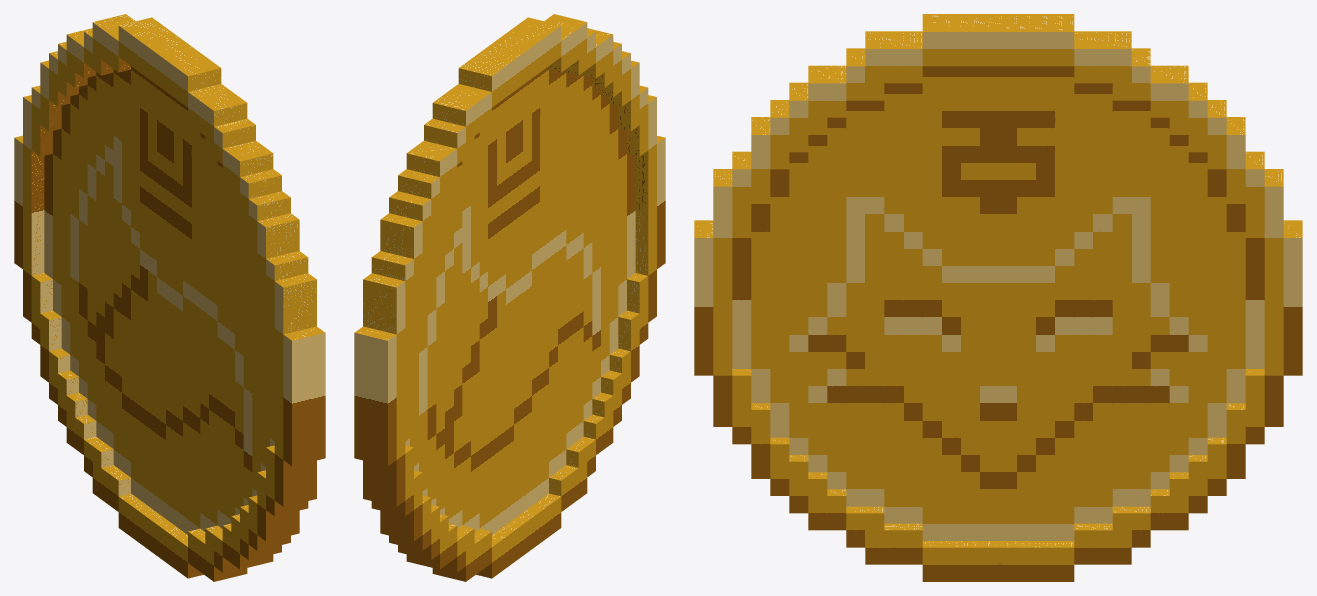
The model's file is coin.glb.
3 renders of one model, left to right at view 1: azimuth 30°, elevation 25°; view 2: azimuth 150°, elevation 25°; view 3: azimuth 270°, elevation 25°, orthographic. The views are drawn at different scales.
Visible parts, largest first — view 1: Plane; view 2: Plane; view 3: Plane.
Part boxes in pixels (left/top/right/bottom): Plane: left=14, top=14, right=325, bottom=581; Plane: left=354, top=14, right=665, bottom=581; Plane: left=694, top=14, right=1302, bottom=581.
Bounding box in the file's own units: 0.0475 × 0.683 × 0.6844.
Materials: 1 (1 with a texture image).
